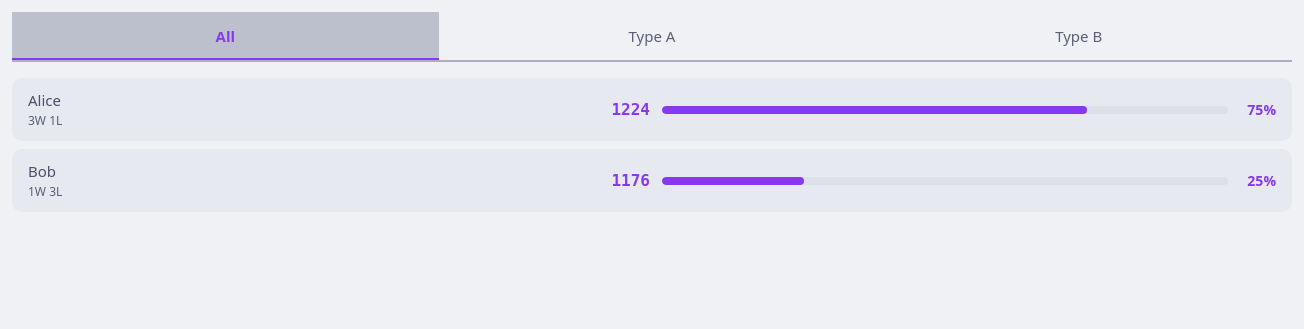
Test case: StatsScreen › shows several trophy badges for a player who holds them all
Step 1. Click the text "Alice" → x=44, y=100, box left=28, top=90, right=61, bottom=110
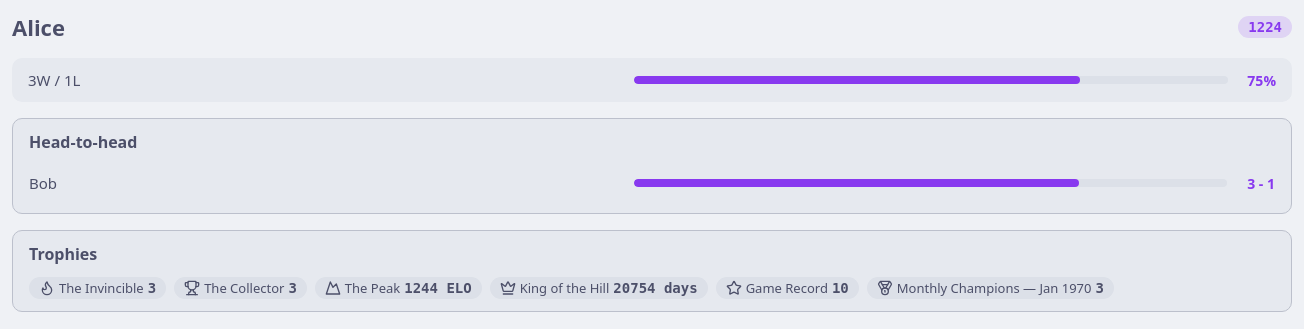
Expected: the text "The Invincible" is shown, left=39, top=280, right=144, bottom=296
Expected: the text "The Collector" is shown, left=184, top=280, right=284, bottom=296
